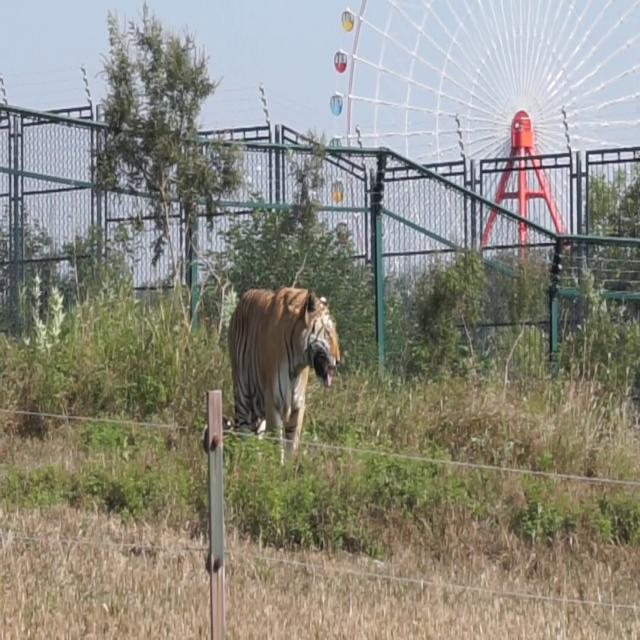Tiger: (224, 263, 358, 452)
